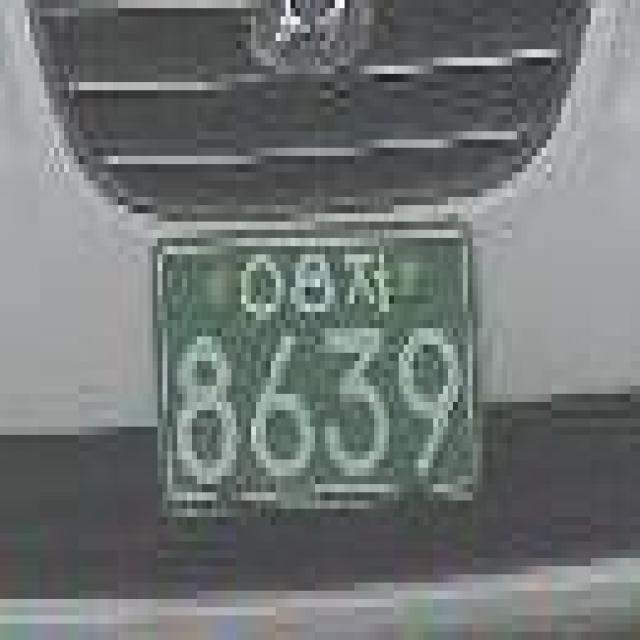illegal_plate: (141, 215, 500, 537)
